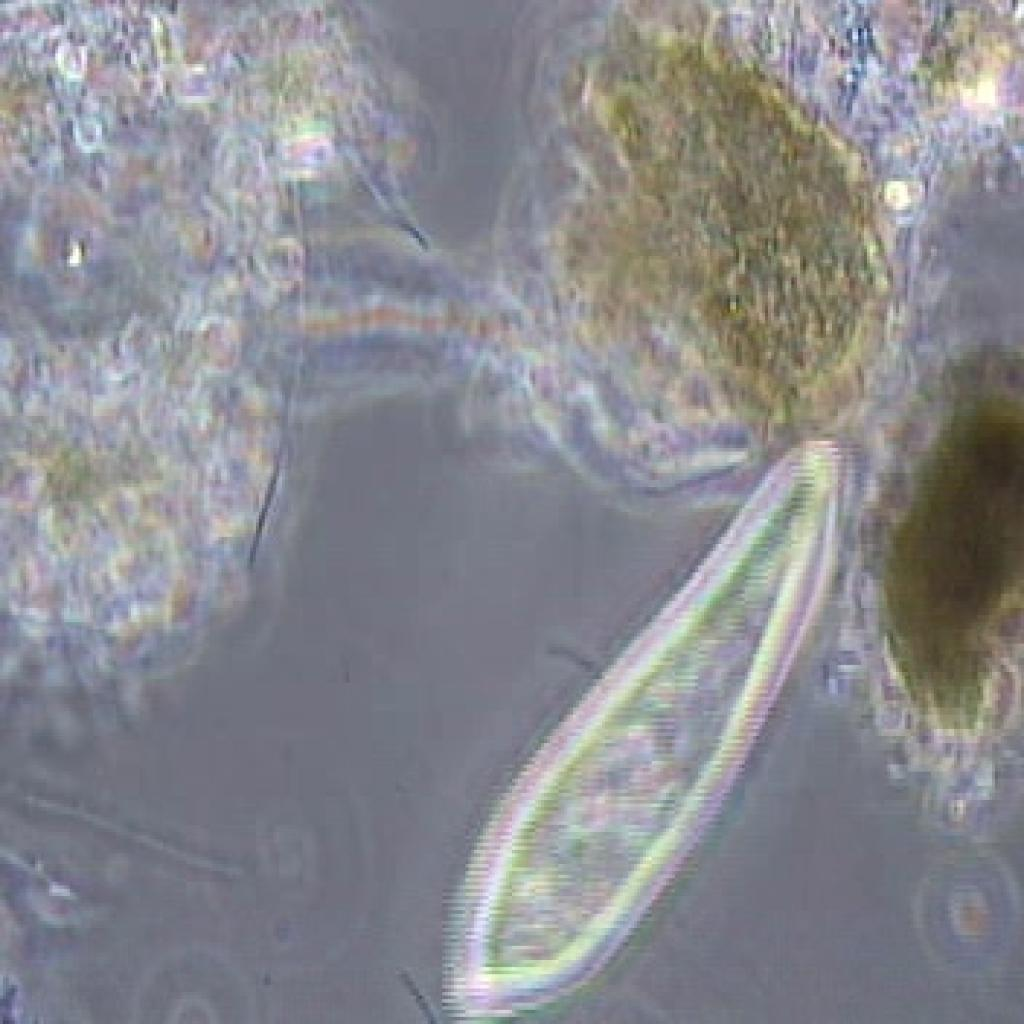Paramecium: (420, 434, 857, 1020)
